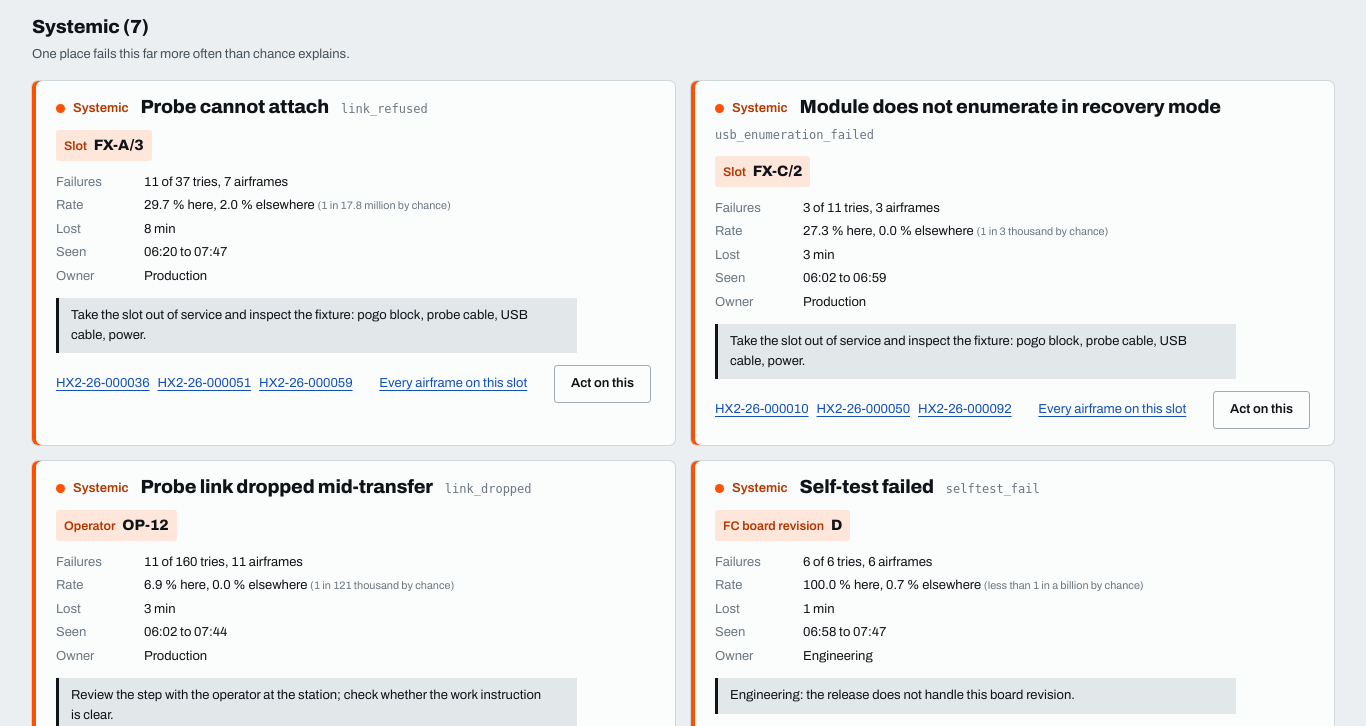
Scenario: issues › lets an operator read issues but not act on them
The image size is (1366, 726).
(page scrolled)
What coordinates should you click on to do the following:
click the button "Act on this" in the row of "HX2-26-000059"
I would click on:
 (602, 384)
Its box is top-left (554, 365), bottom-right (651, 403).
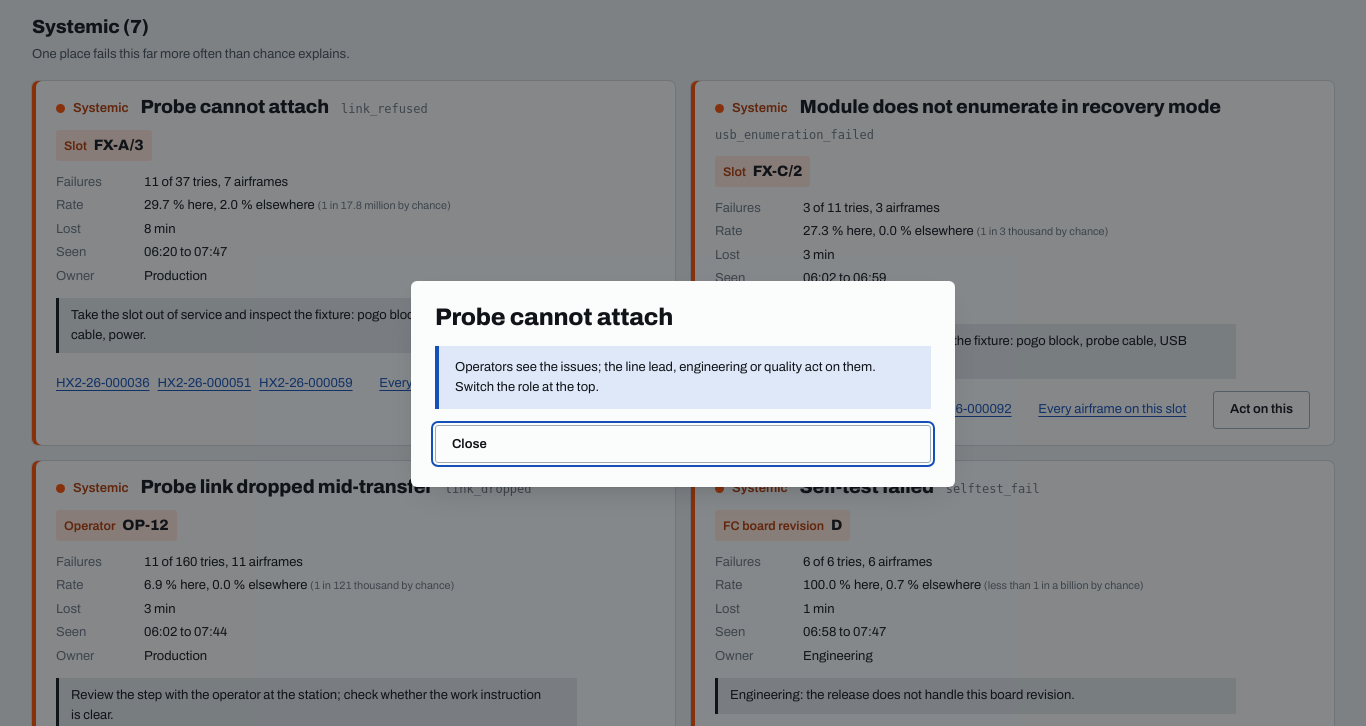
Result: the text "Operators see the issues" is shown at top-left (455, 360), bottom-right (876, 394)
